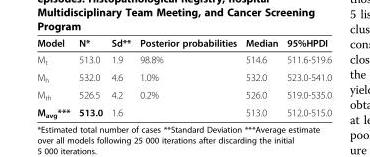table: (36, 36, 331, 118)
table column: (134, 36, 240, 118), (281, 36, 331, 118), (240, 36, 281, 118), (36, 36, 73, 118), (73, 36, 106, 118), (106, 36, 134, 118)
table column header: (36, 36, 331, 50)
table row: (36, 50, 331, 68), (36, 68, 331, 86), (36, 86, 331, 103), (36, 103, 331, 118), (36, 36, 331, 50)
